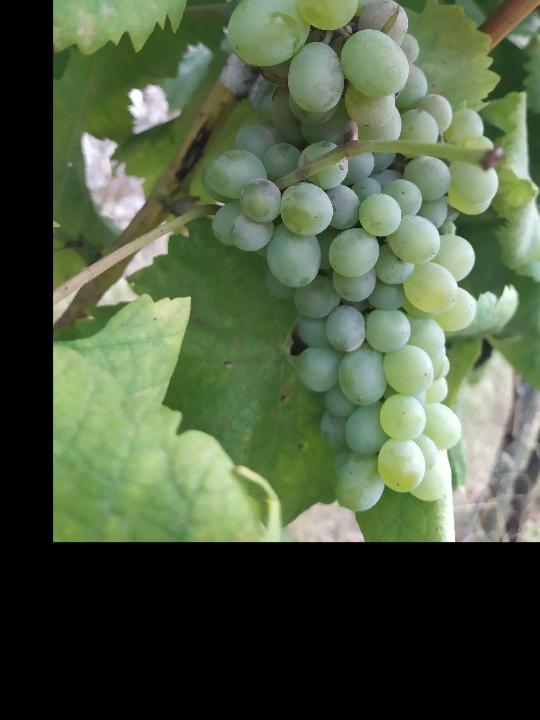grape: (205, 0, 502, 512)
